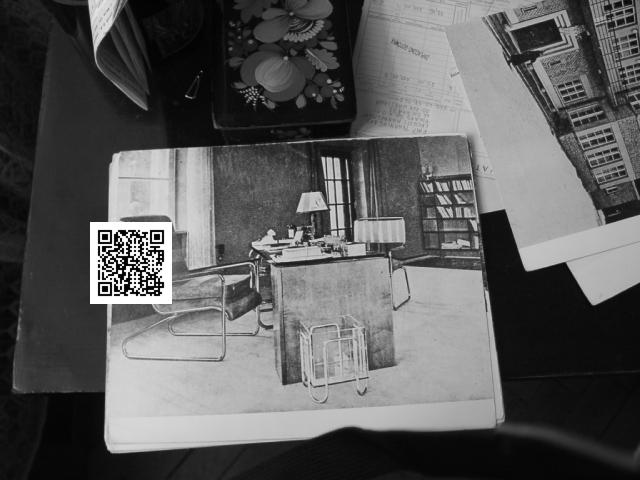qr_code: (89, 222, 172, 303)
